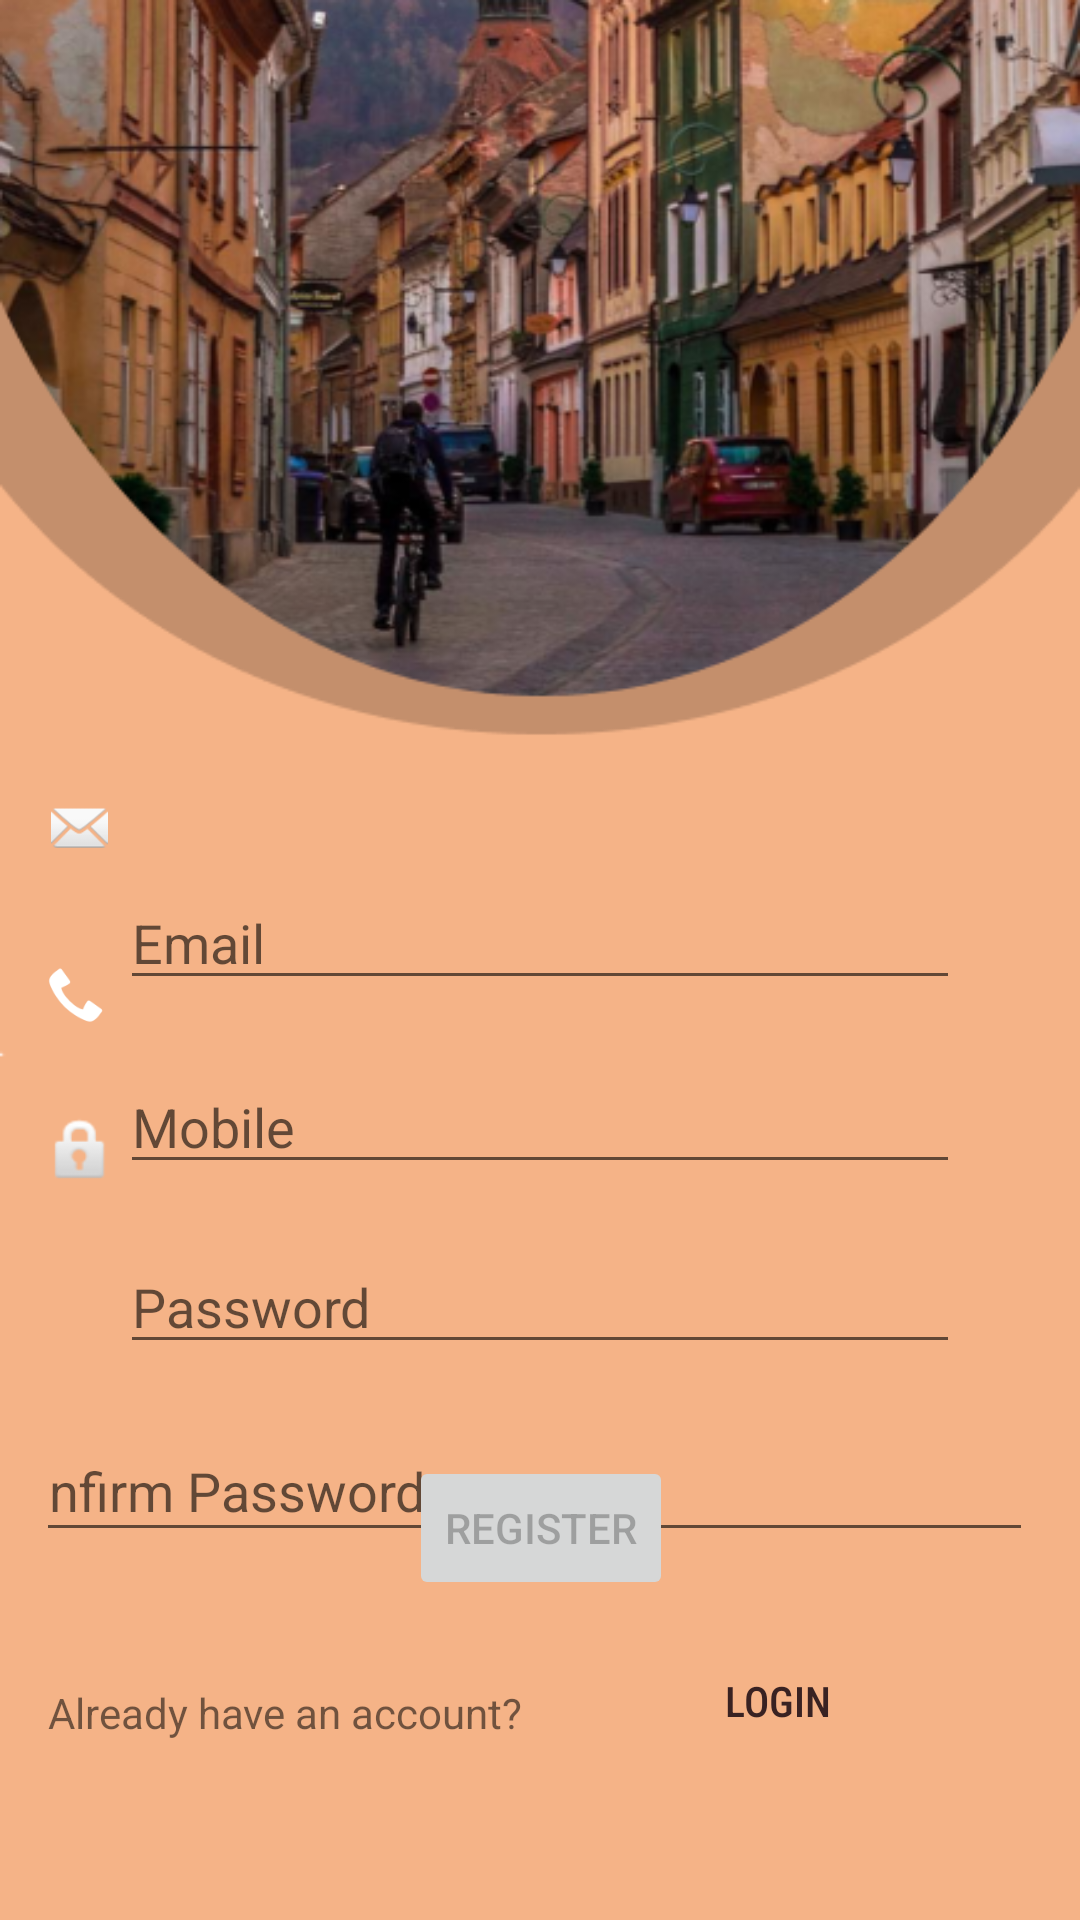

Screen size 1080 × 1920. Icon name, then its center in pixels as (x,y):
lock idle: (79,1149)
phone call: (75,995)
